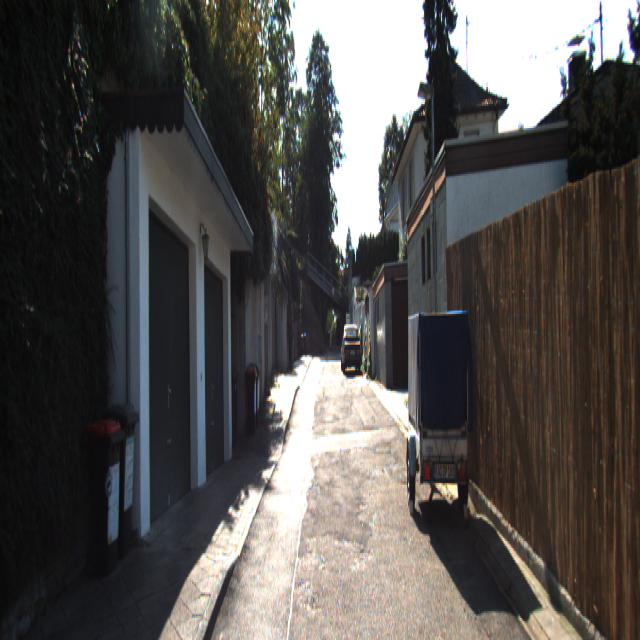Car: (403, 290, 482, 521), (340, 323, 360, 377)
